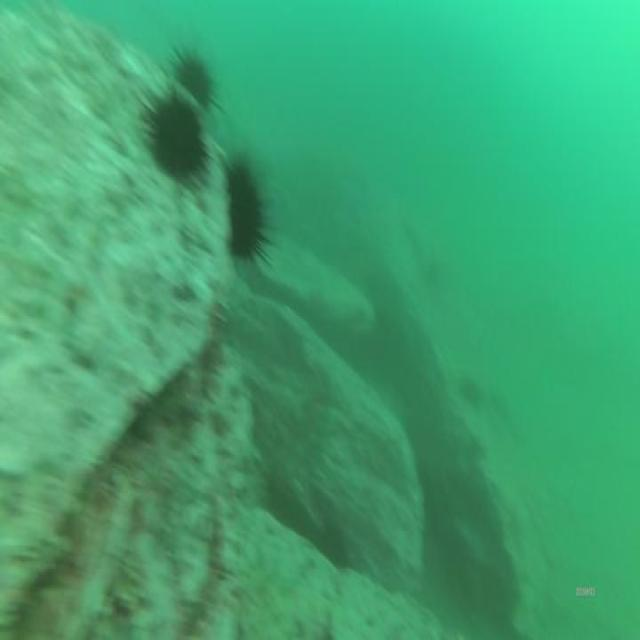echinus: (153, 103, 203, 183), (230, 163, 266, 264), (175, 52, 210, 106)
